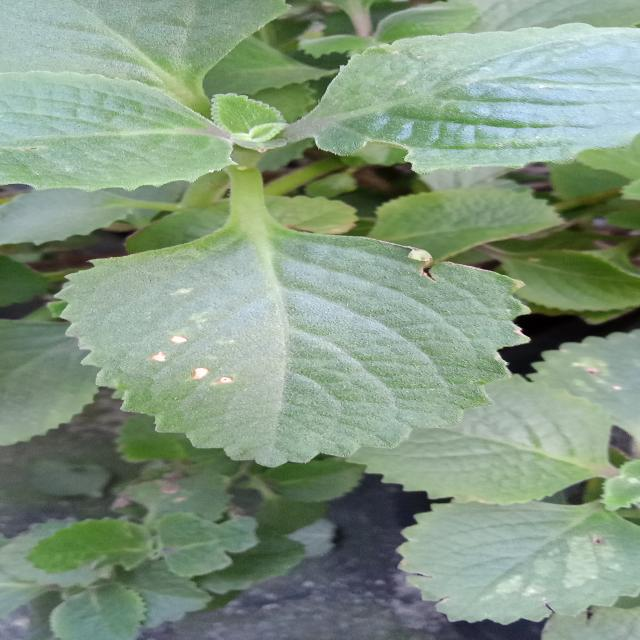Oregano: (42, 217, 551, 474)
